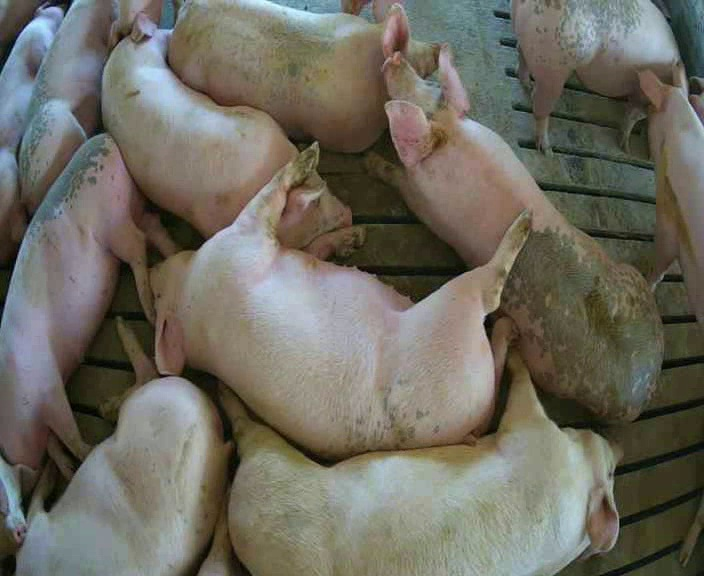pig: (151, 147, 530, 457), (369, 50, 662, 420), (221, 353, 621, 574), (0, 134, 178, 478), (17, 315, 233, 574), (168, 1, 438, 151), (512, 2, 687, 152), (19, 2, 119, 212), (0, 1, 63, 265), (639, 70, 703, 326)
